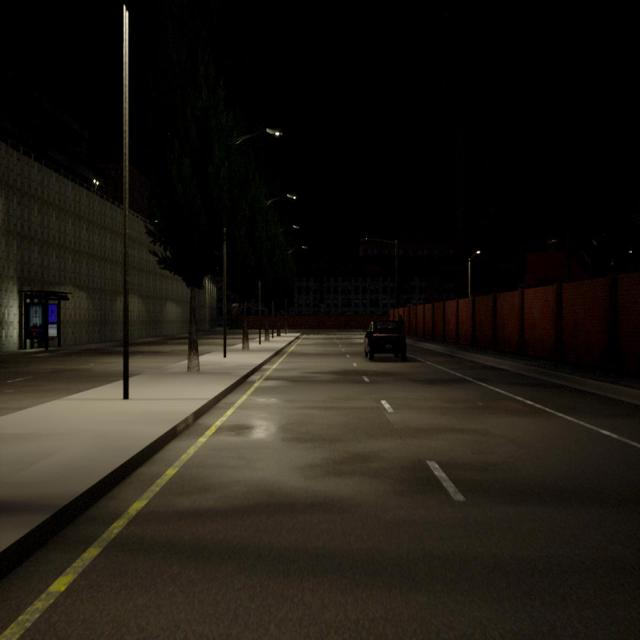Vehicle: (364, 319, 406, 362)
